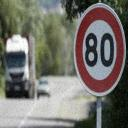speed_limit_80: (73, 3, 127, 96)
